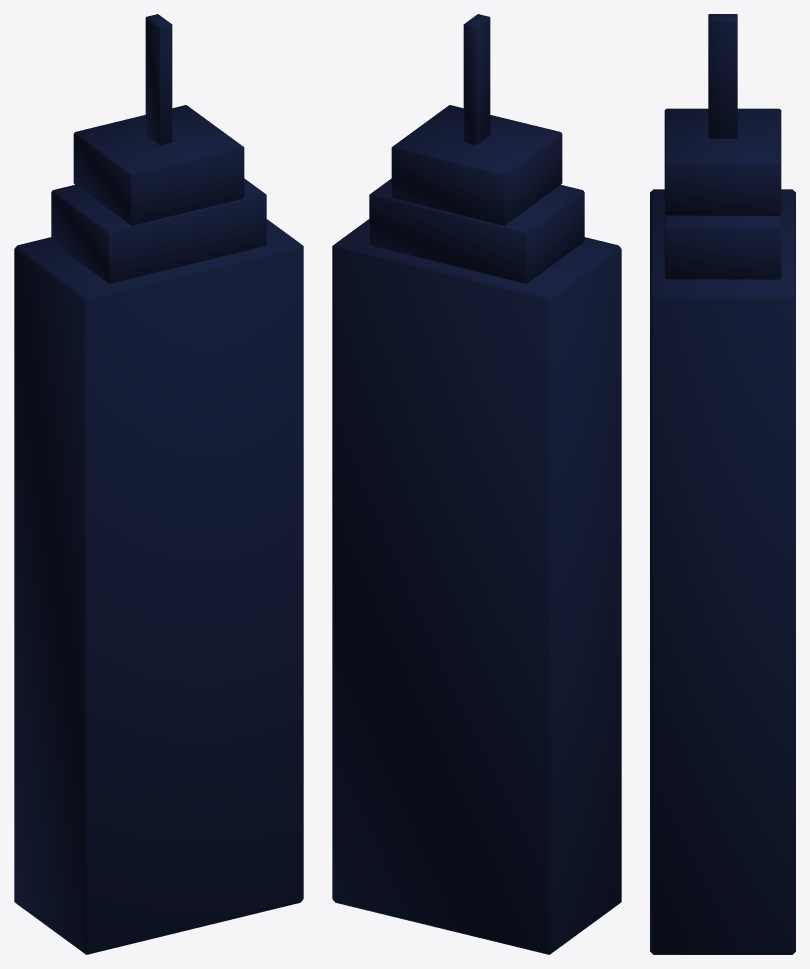
The model's file is prop_city_tower.glb.
3 renders of one model, left to right at view 1: azimuth 30°, elevation 25°; view 2: azimuth 150°, elevation 25°; view 3: azimuth 270°, elevation 25°, orthographic.
Visible parts, largest first — view 1: prop_city_tower; view 2: prop_city_tower; view 3: prop_city_tower.
Part boxes in pixels (x1=…): prop_city_tower: x1=14, y1=14, x2=303, y2=954; prop_city_tower: x1=332, y1=14, x2=621, y2=954; prop_city_tower: x1=650, y1=14, x2=795, y2=954.
Bounding box in the file's own units: 14 × 53.6 × 8.
